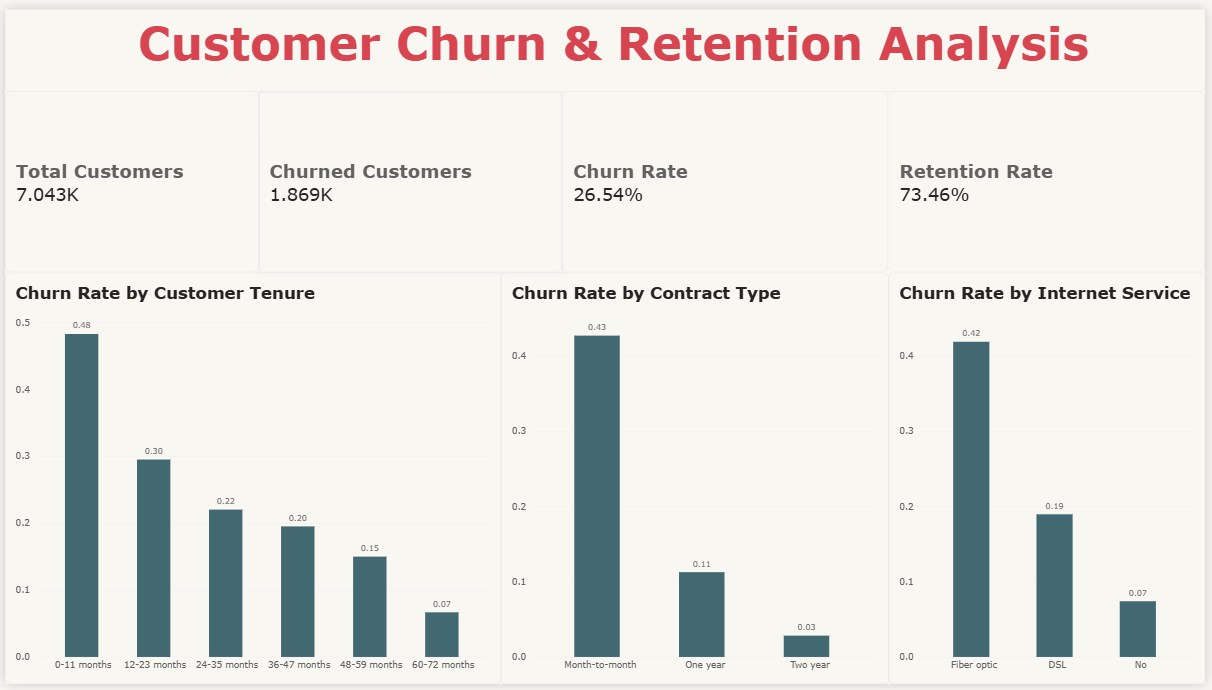

This screenshot's page, from the dashboard's own definition file:
{"tool":"powerbi","page":{"name":" Executive Churn Overview","canvas":[1920,1080],"ordinal":0},"visuals":[{"type":"cardVisual","fields":{"Data":["customer_churn_cleaned.Total Customers"]},"box":[0,132.6,406.2,288.6],"z":0},{"type":"cardVisual","fields":{"Data":["customer_churn_cleaned.Churned Customers"]},"box":[406.2,132.6,485.3,288.6],"z":1000},{"type":"cardVisual","fields":{"Data":["customer_churn_cleaned.Churn Rate"]},"box":[891.6,132.6,521.7,288.6],"z":2000},{"type":"cardVisual","fields":{"Data":["customer_churn_cleaned.Retention Rate"]},"box":[1413.3,132.6,506.7,288.6],"z":3000},{"type":"clusteredColumnChart","title":"Churn Rate by Contract Type","fields":{"Category":["customer_churn_cleaned.Contract"],"Y":["customer_churn_cleaned.Churn Rate"]},"box":[793.2,421.2,620,658.5],"z":4000},{"type":"clusteredColumnChart","title":"Churn Rate by Customer Tenure","fields":{"Category":["customer_churn_cleaned.Tenure Group"],"Y":["customer_churn_cleaned.Churn Rate"]},"box":[0,421.2,793.2,658.5],"z":5000},{"type":"clusteredColumnChart","title":"Churn Rate by Internet Service","fields":{"Category":["customer_churn_cleaned.InternetService"],"Y":["customer_churn_cleaned.Churn Rate"]},"box":[1413.3,421.2,506.7,658.5],"z":6000},{"type":"textbox","box":[0,0,1920.4,131.7],"z":7000}]}

Visuals, with their boxes in screenshot pixels (x1, y1, x2, y2), scaled from the page's 1920x1080 canvas onto the 1212x690 screenshot:
cardVisual - customer_churn_cleaned.Total Customers: [left=0, top=85, right=256, bottom=269]
cardVisual - customer_churn_cleaned.Churned Customers: [left=256, top=85, right=563, bottom=269]
cardVisual - customer_churn_cleaned.Churn Rate: [left=563, top=85, right=892, bottom=269]
cardVisual - customer_churn_cleaned.Retention Rate: [left=892, top=85, right=1211, bottom=269]
"Churn Rate by Contract Type" clusteredColumnChart: [left=501, top=269, right=892, bottom=689]
"Churn Rate by Customer Tenure" clusteredColumnChart: [left=0, top=269, right=501, bottom=689]
"Churn Rate by Internet Service" clusteredColumnChart: [left=892, top=269, right=1211, bottom=689]
textbox: [left=0, top=0, right=1211, bottom=84]
